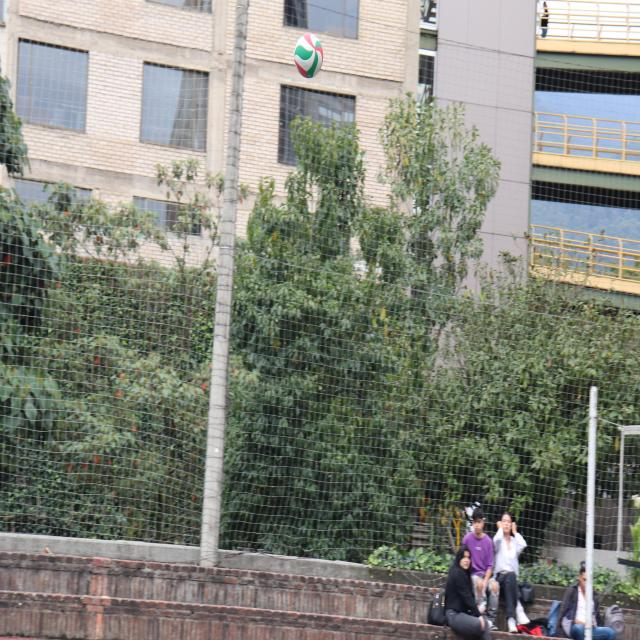volleyball: (294, 32, 324, 79)
